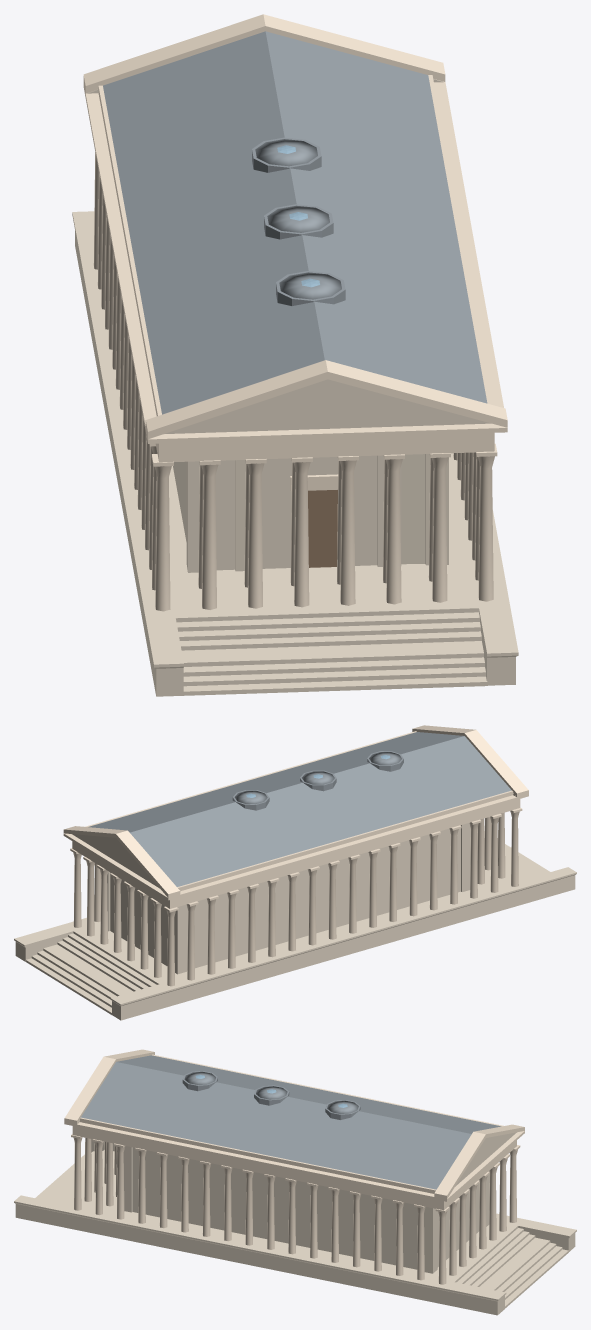
3 renders of one model, top to bottom at view 1: azimuth 30°, elevation 25°; view 2: azimuth 150°, elevation 25°; view 3: azimuth 270°, elevation 25°, orthographic. The views are drawn at different scales.
Visible parts, largest first — view 1: roof, stone, trim, metal; view 2: stone, trim, roof; view 3: stone, roof, trim.
Part boxes in pixels (x1,y1,x2,y2): roof: (103,31,487,414); stone: (72,79,518,696); trim: (83,14,507,611); metal: (308,490,337,567); stone: (14,793,576,1020); trim: (63,725,528,986); roof: (88,732,511,886); stone: (14,1120,576,1315); roof: (81,1055,501,1189); trim: (64,1049,524,1284).
Size of the model in its own units: 95.48 by 36.2 by 135.
